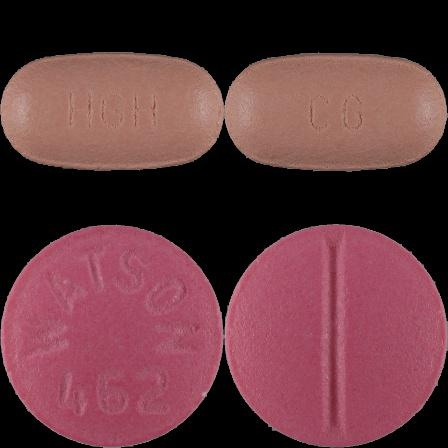16590-312: (0, 0, 224, 224)
